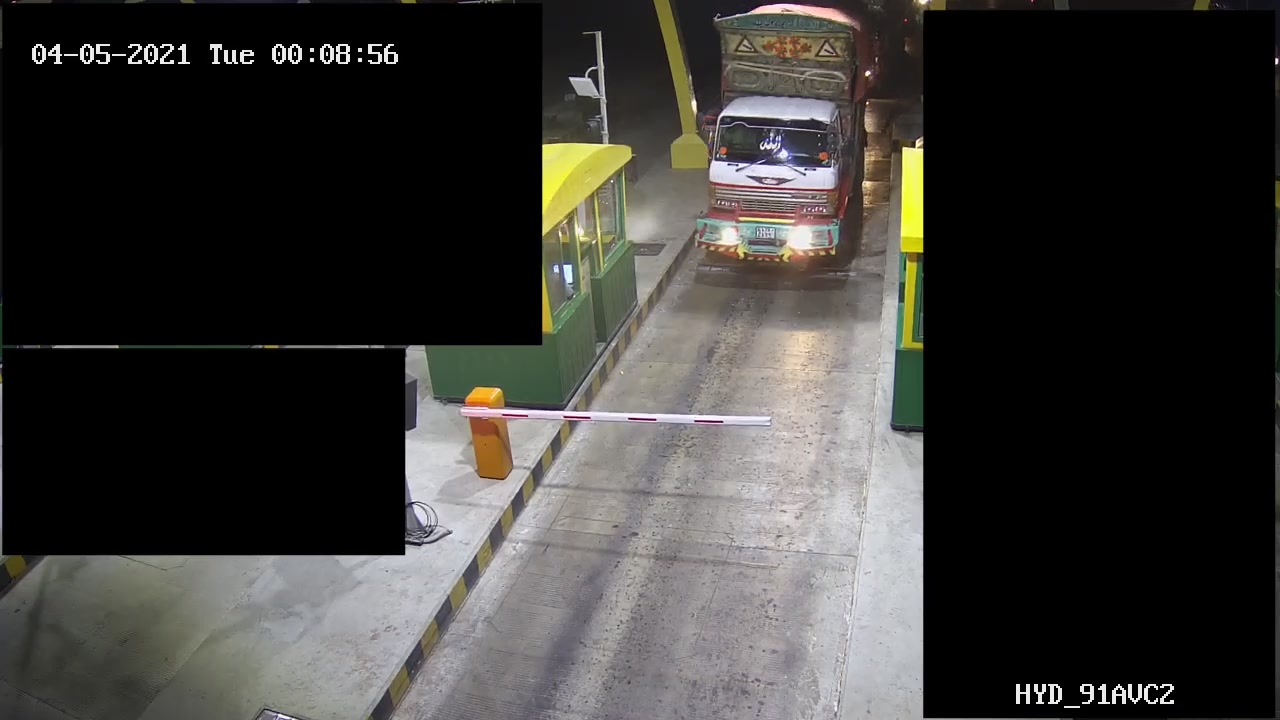F5: (688, 1, 866, 282)
